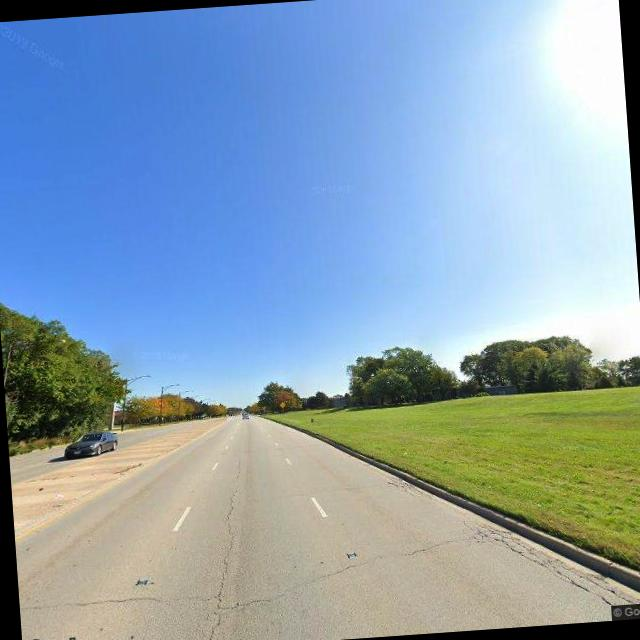crack: (221, 528, 474, 612), (460, 499, 636, 612), (183, 462, 254, 640), (18, 578, 214, 630)
